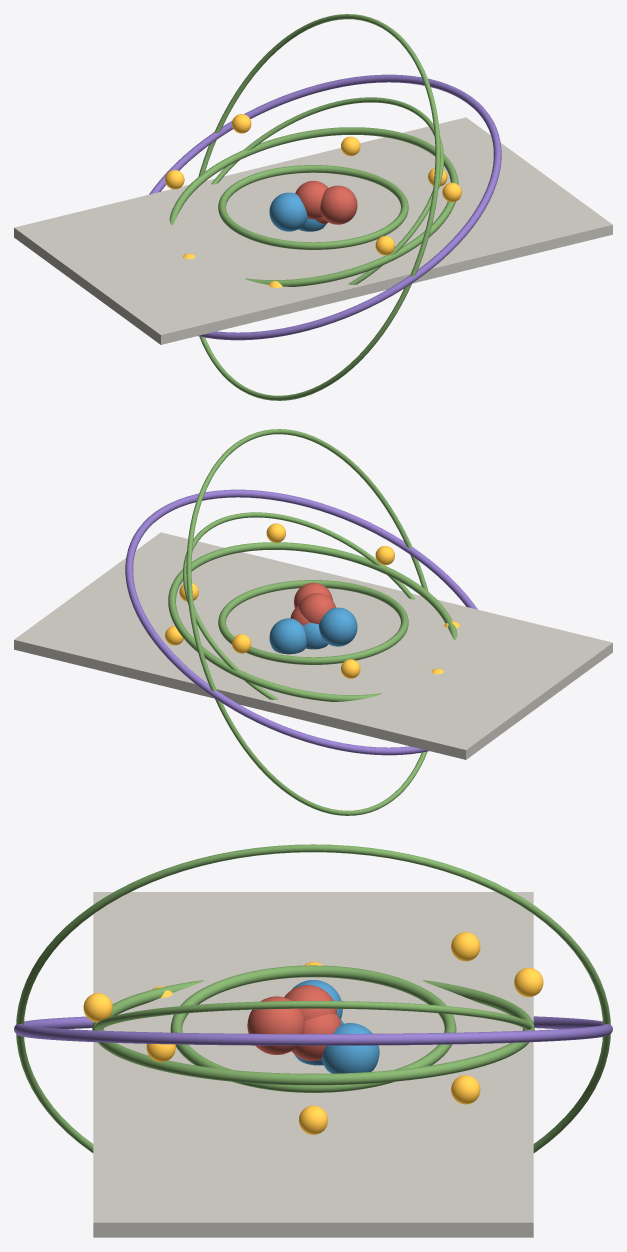
Rendered from chem-atoms-electron-shell.glb.
3 views of the same model, one above another, from view 1: azimuth 30°, elevation 25°; view 2: azimuth 150°, elevation 25°; view 3: azimuth 270°, elevation 25° (orthographic). The views are drawn at different scales.
Parts seen in each view (by area): view 1: concept-base, named-energy-level-3, electron-shell-3, named-energy-level-2, named-energy-level-1, electron-shell-2, proton-2, neutron-1, proton-3; view 2: concept-base, named-energy-level-3, electron-shell-3, named-energy-level-2, named-energy-level-1, electron-shell-2, neutron-1, neutron-3, proton-3; view 3: concept-base, named-energy-level-3, electron-shell-3, named-energy-level-2, named-energy-level-1, electron-shell-2, proton-2, neutron-3, proton-1, proton-3, electron-6, electron-8 (+3 smaller).
Part boxes in pixels (x1,y1,x2,y2): concept-base: (14,117,612,344); named-energy-level-3: (149,74,501,340); electron-shell-3: (198,14,440,400); named-energy-level-2: (169,127,458,286); named-energy-level-1: (218,165,408,249); electron-shell-2: (211,97,443,284); proton-2: (320,185,357,224); neutron-1: (269,192,307,231); proton-3: (295,180,328,219); concept-base: (14,532,612,759); named-energy-level-3: (125,489,477,755); electron-shell-3: (186,429,428,815); named-energy-level-2: (168,542,457,701); named-energy-level-1: (218,580,408,664); electron-shell-2: (183,512,415,699); neutron-1: (319,607,357,646); neutron-3: (269,618,306,654); proton-3: (298,593,335,624); concept-base: (93,892,533,1237); named-energy-level-3: (14,1016,612,1045); electron-shell-3: (16,844,610,1152); named-energy-level-2: (92,980,534,1085); named-energy-level-1: (170,965,456,1092); electron-shell-2: (94,1001,532,1029); proton-2: (247,996,304,1054); neutron-3: (321,1023,379,1073); proton-1: (291,1014,341,1060); proton-3: (284,985,337,1020); electron-6: (451,932,480,961); electron-8: (451,1075,480,1104).
Size of what is drawn, in the model's own units: 2.4 by 1.63 by 1.84.
